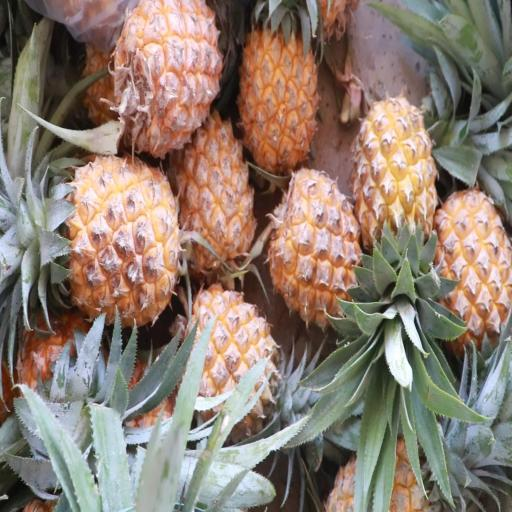Pineapple - v8 v1: (13, 148, 183, 326), (109, 0, 224, 163), (176, 281, 292, 439), (350, 93, 438, 289), (263, 164, 365, 333), (236, 4, 320, 188), (172, 102, 258, 279), (432, 185, 512, 372)
